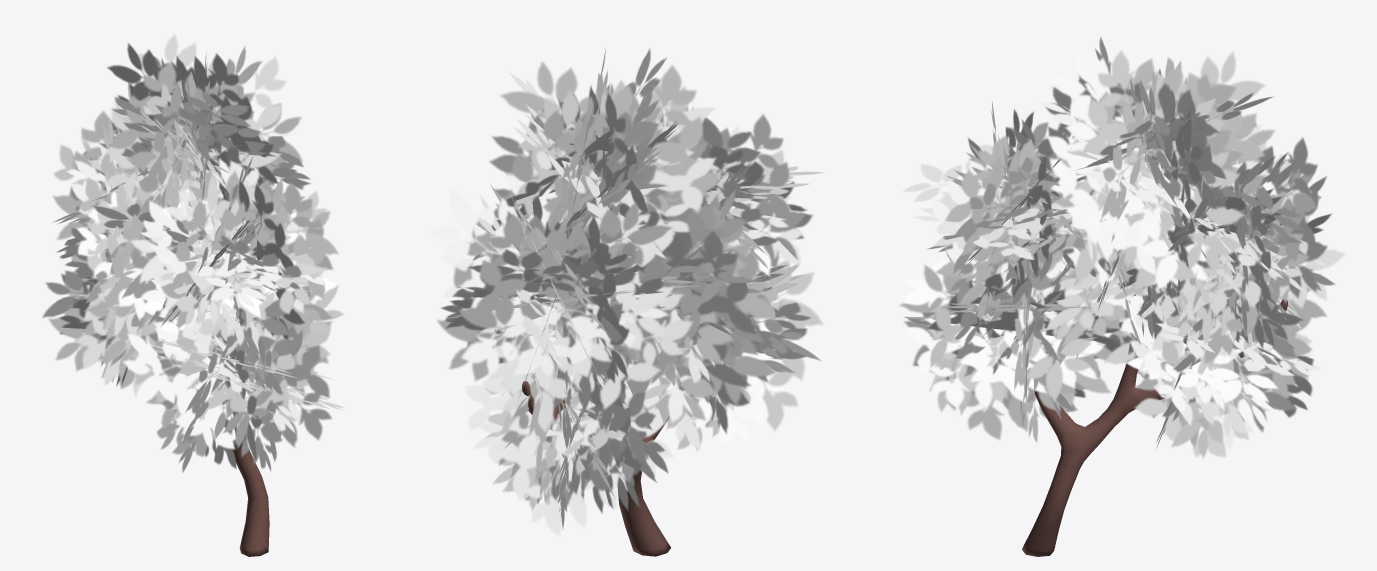
The model's file is tree_stylized_5.glb.
The picture shows the model from 3 angles, left to right: view 1: azimuth 30°, elevation 25°; view 2: azimuth 150°, elevation 25°; view 3: azimuth 270°, elevation 25°; orthographic projection. The views are drawn at different scales.
Parts seen in each view (by area): view 1: Canopy, Willow_Dead_1; view 2: Canopy, Willow_Dead_1; view 3: Canopy, Willow_Dead_1.
Boxes of the visible parts, x1,y1,x2,y2 form: Canopy: (42,33,344,472); Willow_Dead_1: (156,177,269,556); Canopy: (428,48,824,536); Willow_Dead_1: (522,224,699,556); Canopy: (899,36,1345,458); Willow_Dead_1: (1022,250,1287,556).
Bounding box in the file's own units: 2.24 × 3.86 × 3.31.
Materials: 2 (1 with a texture image).
